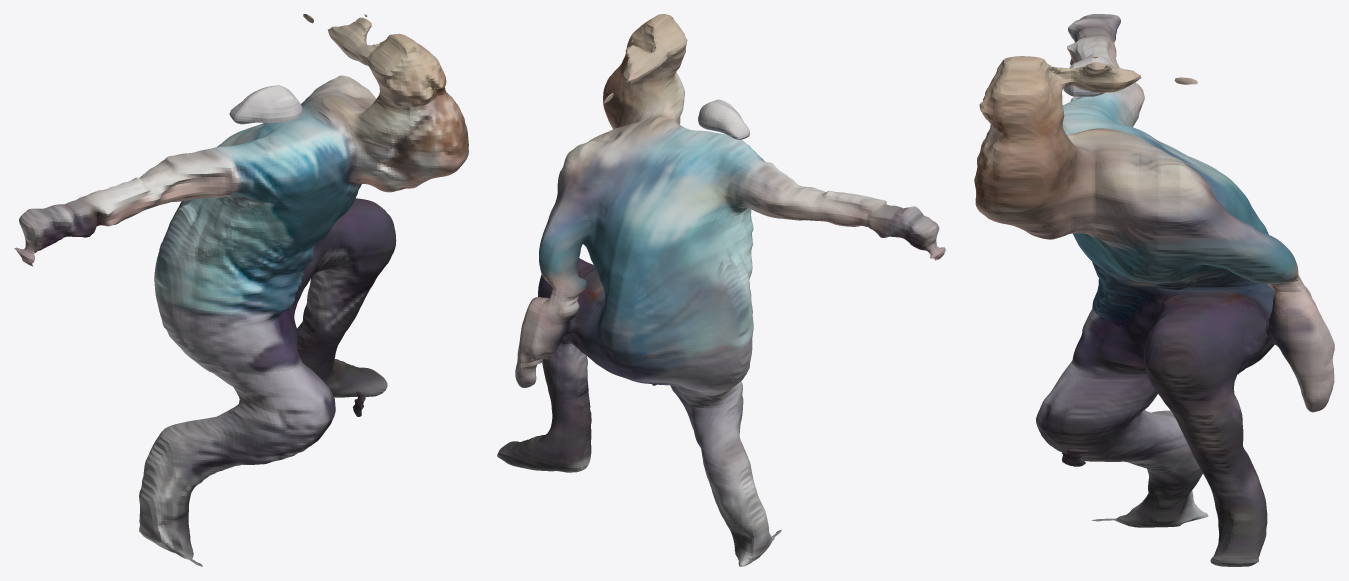
The model's file is 0052_tex.glb.
The picture shows the model from 3 angles, left to right: view 1: azimuth 30°, elevation 25°; view 2: azimuth 150°, elevation 25°; view 3: azimuth 270°, elevation 25°; orthographic projection. The views are drawn at different scales.
Parts seen in each view (by area): view 1: 0052_tex.obj; view 2: 0052_tex.obj; view 3: 0052_tex.obj.
Part boxes in pixels (x1=…): 0052_tex.obj: x1=14, y1=14, x2=468, y2=566; 0052_tex.obj: x1=497, y1=14, x2=945, y2=566; 0052_tex.obj: x1=974, y1=14, x2=1334, y2=566.
Bounding box in the file's own units: 0.7633 × 0.8809 × 0.5192.
